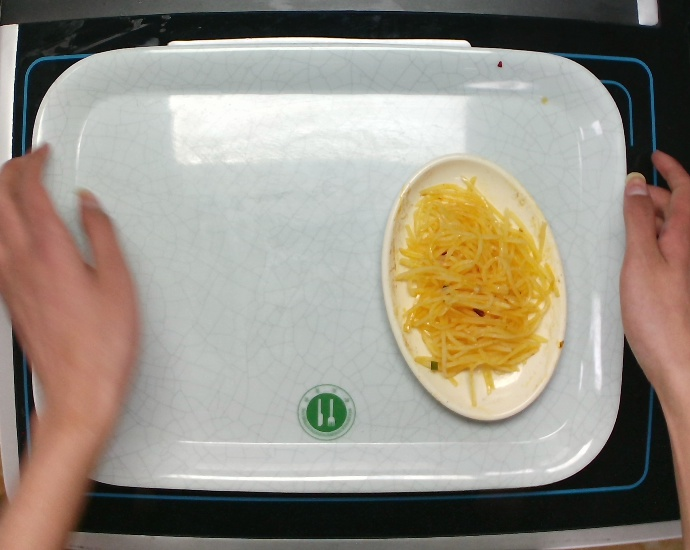JYsf-Tuo_Yuan_Wan: (377, 150, 573, 427)
